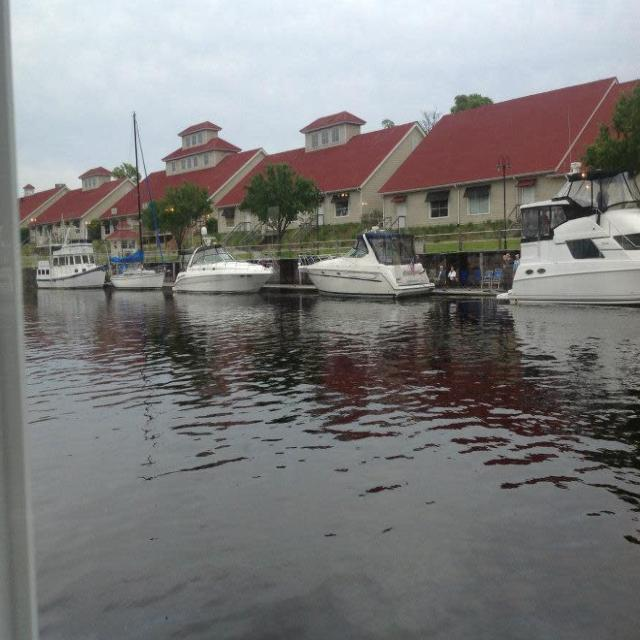houseboat: (504, 194, 640, 311), (302, 223, 426, 300), (167, 236, 270, 296), (31, 238, 102, 290)
sailboat: (106, 105, 166, 291)
